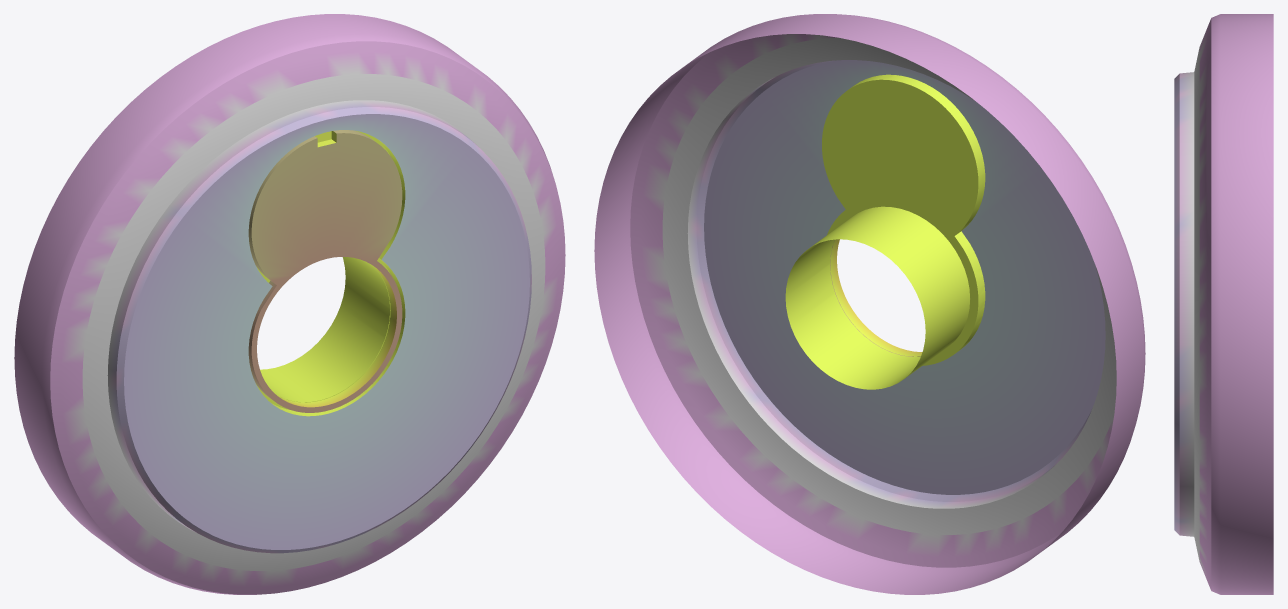
Rendered from Kit_Lock_CylinderShell.fbx.
The picture shows the model from 3 angles, left to right: view 1: azimuth 30°, elevation 25°; view 2: azimuth 150°, elevation 25°; view 3: azimuth 270°, elevation 25°; orthographic projection. The views are drawn at different scales.
Parts seen in each view (by area): view 1: Kit_Lock_CylinderShell_LOD0; view 2: Kit_Lock_CylinderShell_LOD0; view 3: Kit_Lock_CylinderShell_LOD0.
Part boxes in pixels (x1,y1,x2,y2): Kit_Lock_CylinderShell_LOD0: (14, 14, 565, 594); Kit_Lock_CylinderShell_LOD0: (594, 14, 1145, 594); Kit_Lock_CylinderShell_LOD0: (1174, 14, 1273, 594).
Size of what is drawn, in the model's own units: 0.044 by 0.044 by 0.0075.
